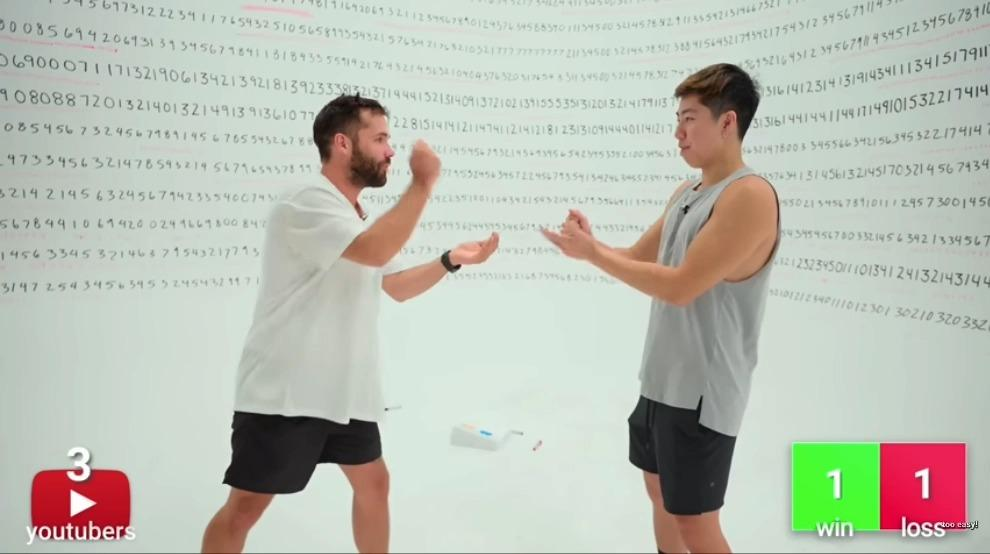Rock: (409, 141, 442, 190), (561, 205, 587, 232)
